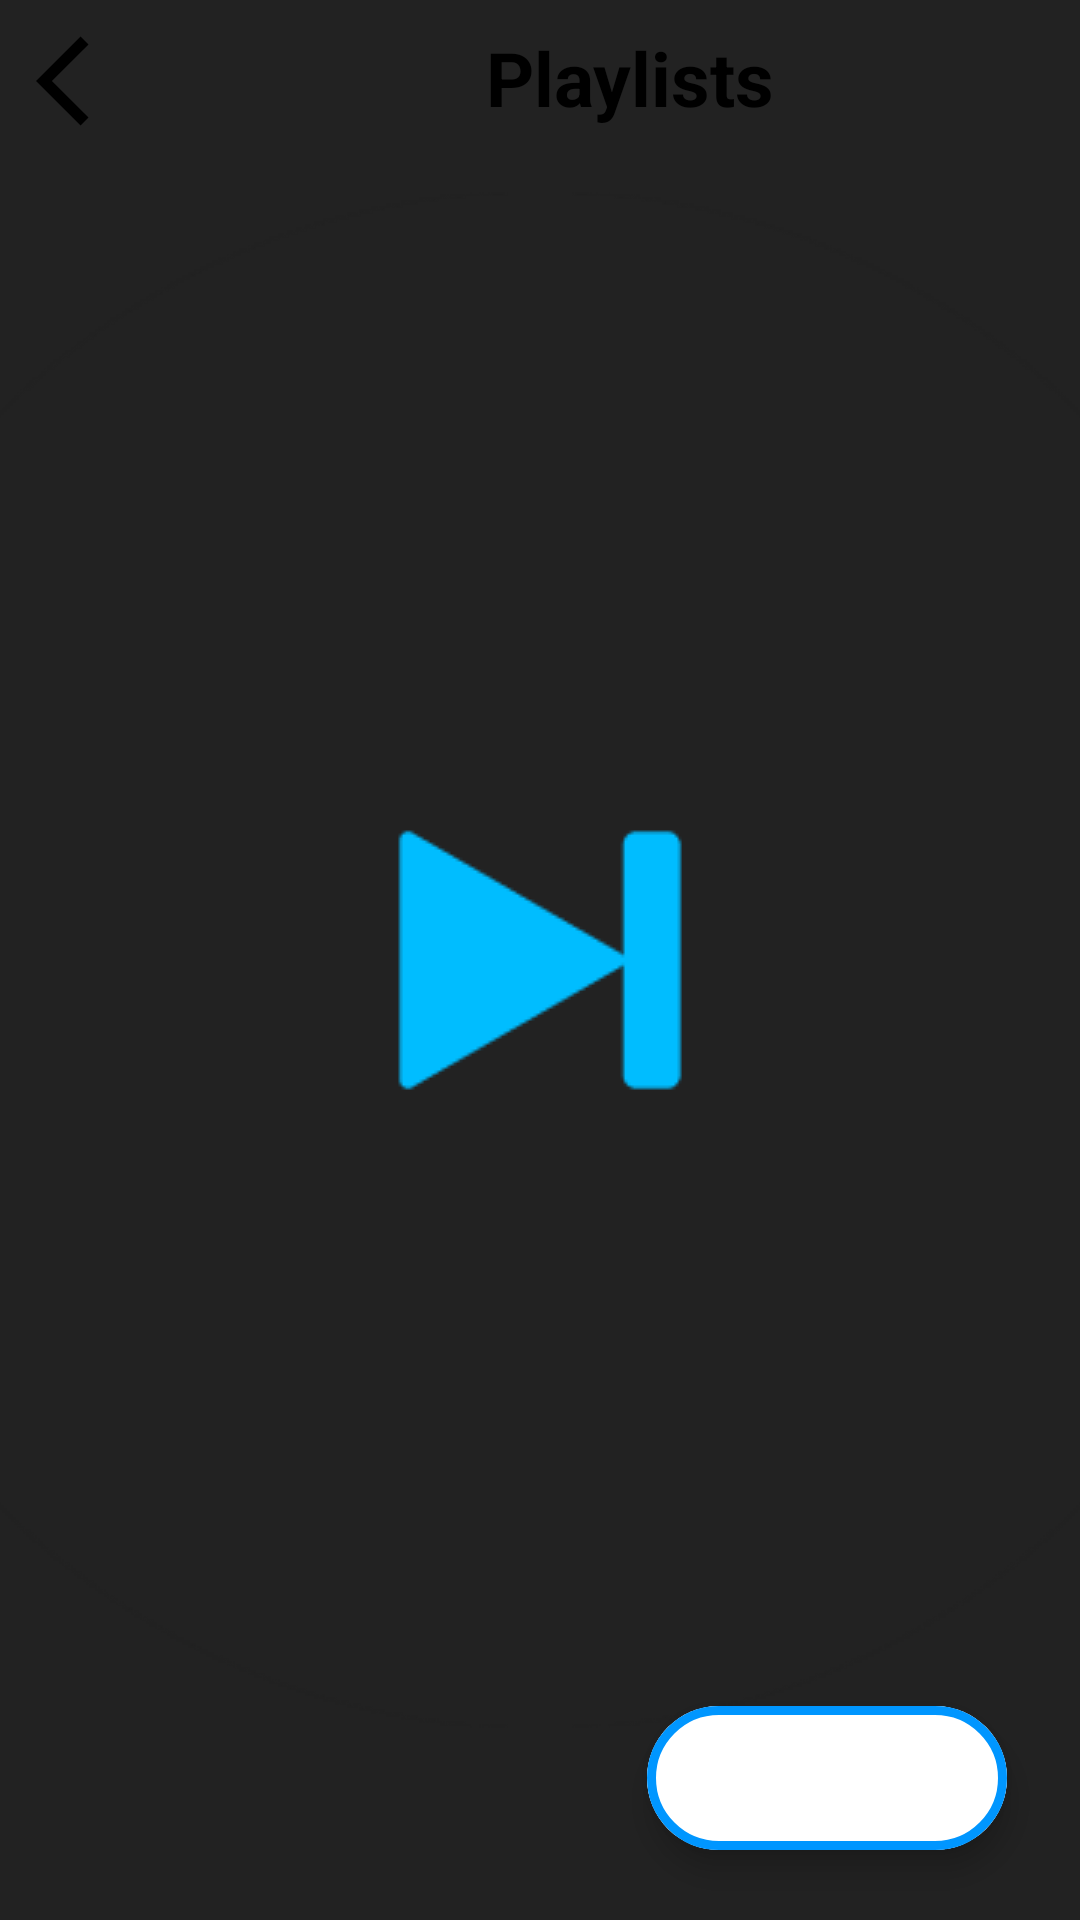

Icons on this 1080px×1920px Android screen, each with its box as {"x1": x1, "y1": y1, "x2": x2, "y2": y2}:
Back: {"x1": 37, "y1": 37, "x2": 88, "y2": 125}
